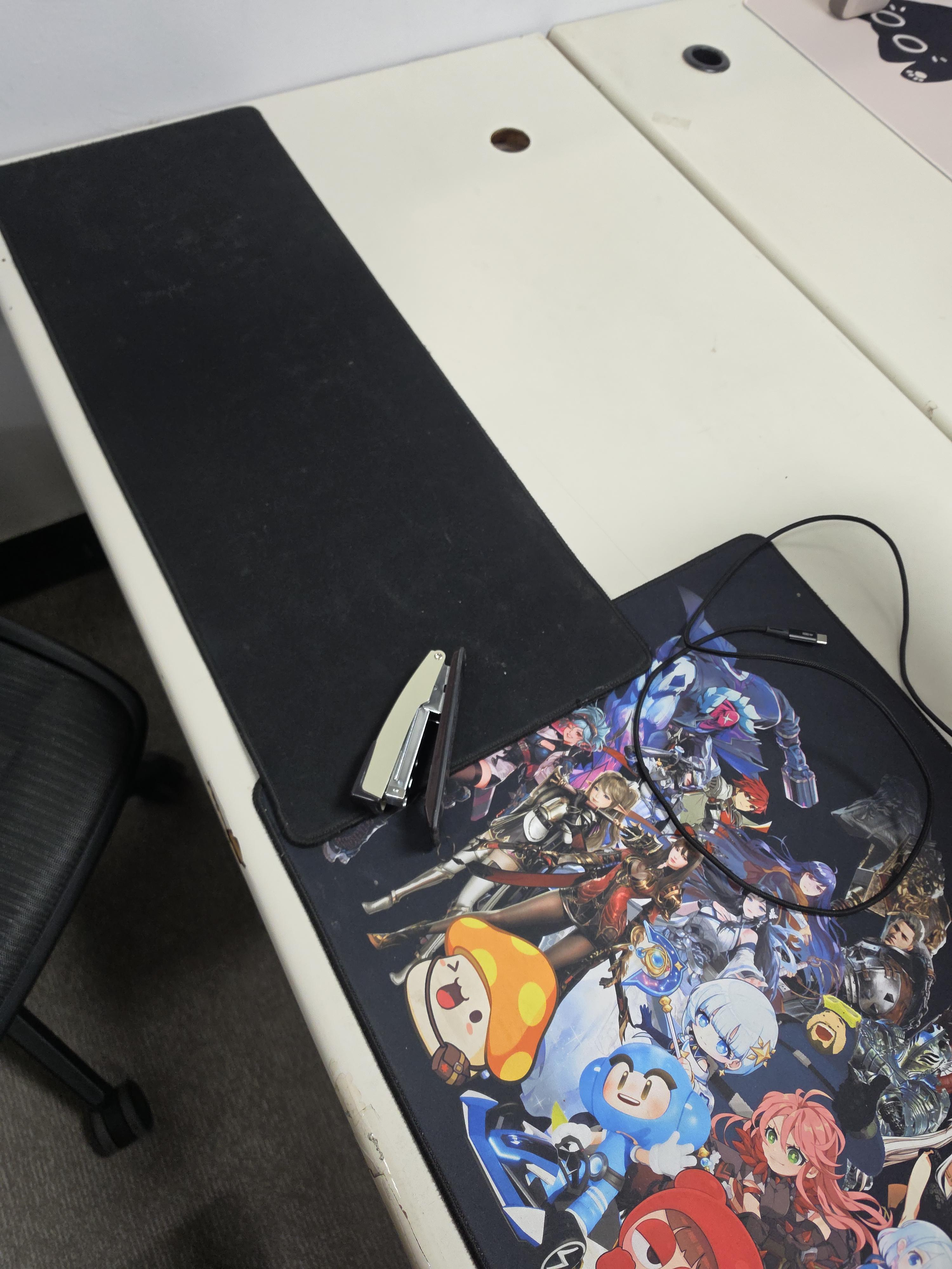stapler: (351, 646, 467, 846)
